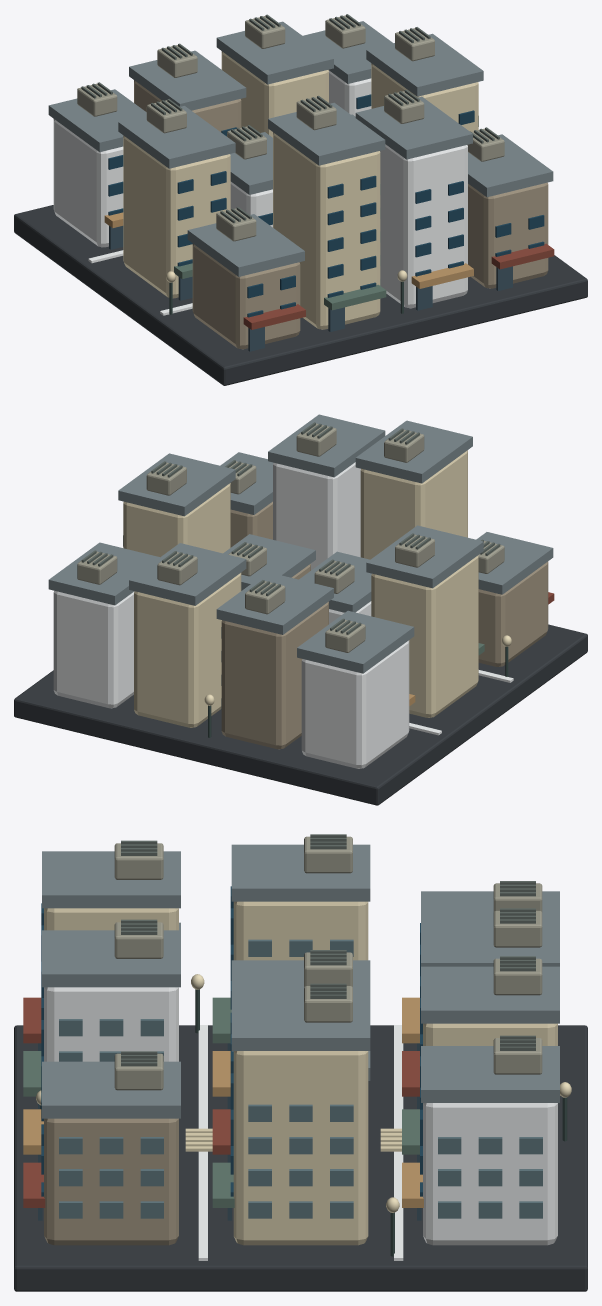
Rendered from city.glb.
3 views of the same model, one above another, from view 1: azimuth 30°, elevation 25°; view 2: azimuth 150°, elevation 25°; view 3: azimuth 270°, elevation 25° (orthographic). The views are drawn at different scales.
Visible parts, largest first — view 1: City; view 2: City; view 3: City.
Boxes of the visible parts, <box> form: City: <box>14,14,587,385</box>; City: <box>14,414,587,805</box>; City: <box>14,834,587,1291</box>.
Bounding box in the file's own units: 1 × 0.568 × 1.
